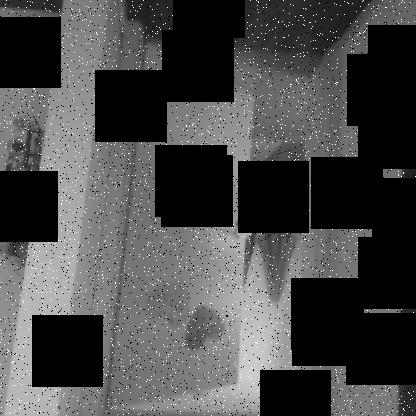Porte: (76, 19, 344, 415)
